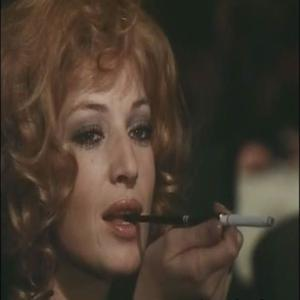cigarette: (216, 211, 275, 227)
